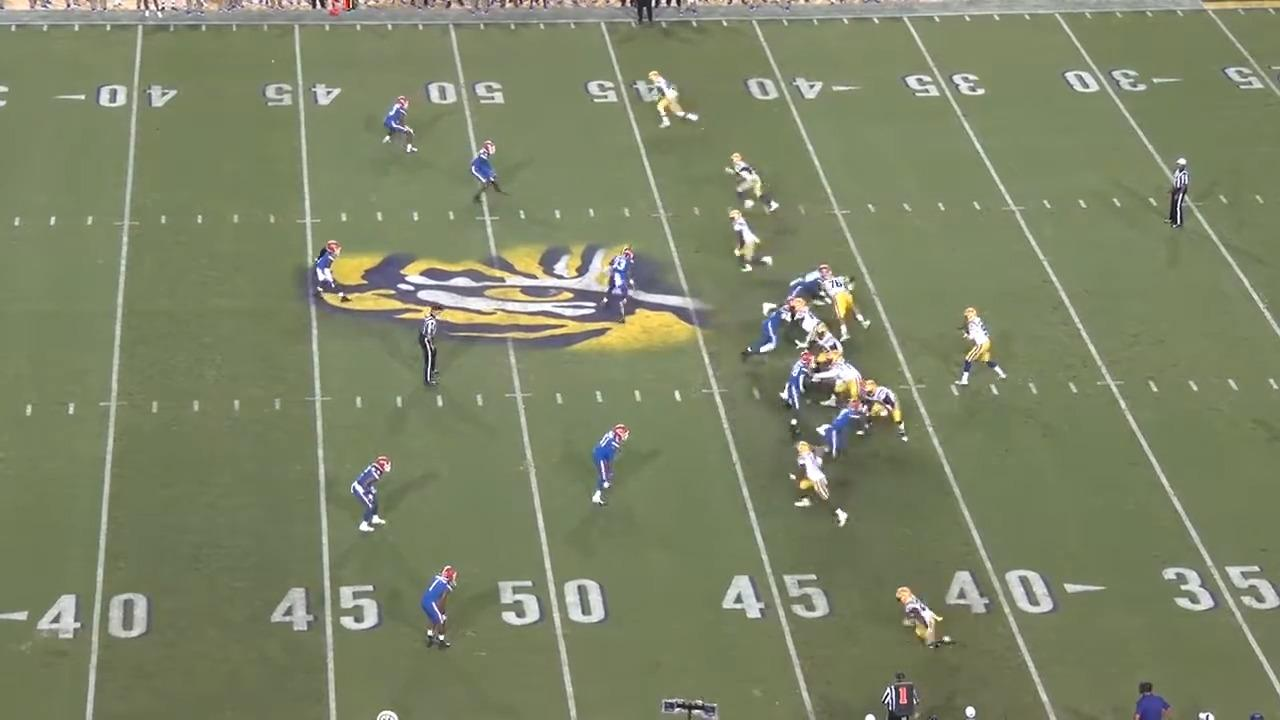defense: (811, 395, 874, 460), (416, 563, 460, 654), (588, 423, 633, 511), (348, 455, 392, 538), (743, 298, 798, 360), (599, 245, 642, 321), (775, 355, 818, 430), (311, 240, 348, 310), (463, 137, 501, 204), (381, 96, 422, 156), (780, 260, 829, 303)
oline: (819, 269, 871, 343), (858, 378, 913, 443), (822, 356, 867, 412), (786, 297, 819, 350), (812, 324, 847, 363)
qb: (957, 304, 1011, 392)
ref: (414, 305, 450, 393), (1168, 154, 1199, 233), (879, 672, 921, 720), (629, 0, 657, 27)
skill: (788, 440, 853, 533), (894, 585, 956, 655), (726, 149, 781, 215), (722, 208, 774, 276), (648, 69, 702, 130)
